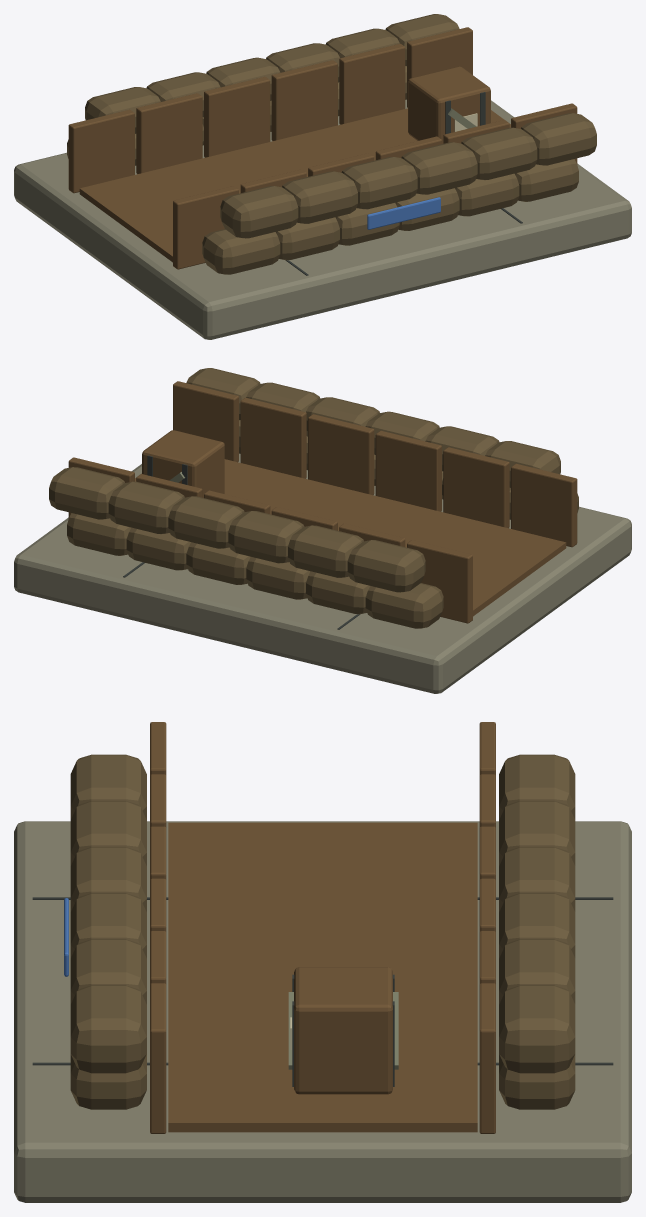
The model's file is ditch.glb.
3 renders of one model, top to bottom at view 1: azimuth 30°, elevation 25°; view 2: azimuth 150°, elevation 25°; view 3: azimuth 270°, elevation 25°, orthographic. The views are drawn at different scales.
Parts seen in each view (by area): view 1: Timber, Concrete, Canvas, TeamColor, Steel; view 2: Timber, Canvas, Concrete; view 3: Timber, Concrete, Canvas, Steel, EdgeSteel.
Boxes of the visible parts, x1,y1,x2,y2 form: Timber: (68,27,577,269); Concrete: (14,99,631,339); Canvas: (67,14,596,274); TeamColor: (367,197,440,229); Steel: (285,92,522,275); Timber: (68,381,577,623); Canvas: (49,368,578,628); Concrete: (14,453,631,693); Timber: (150,722,495,1133); Concrete: (14,821,631,1202); Canvas: (70,754,575,1109); Steel: (32,897,613,1086); EdgeSteel: (288,992,398,1069).
Size of the model in its own units: 3.8 by 0.905 by 3.
